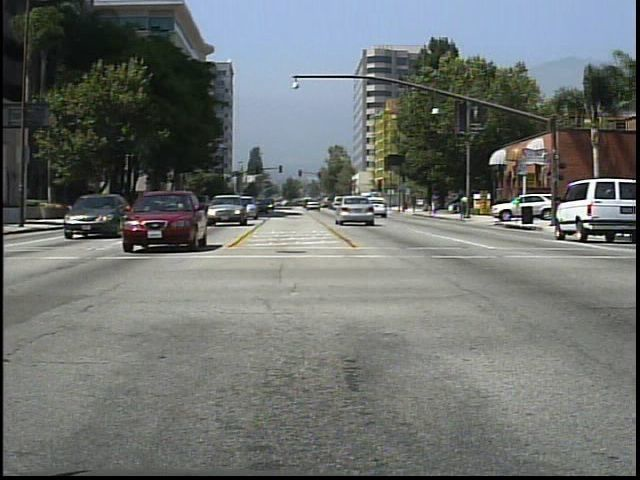person: (457, 189, 472, 221), (429, 190, 442, 217)
